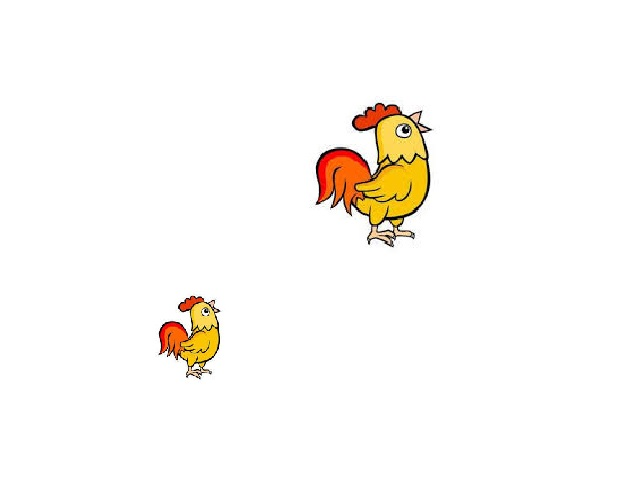crown: (349, 102, 399, 127), (179, 297, 199, 305)
eyes: (394, 121, 414, 141), (203, 306, 209, 315)
feet: (365, 223, 413, 248), (182, 363, 221, 385)
tail: (316, 147, 363, 201), (155, 325, 187, 360)
